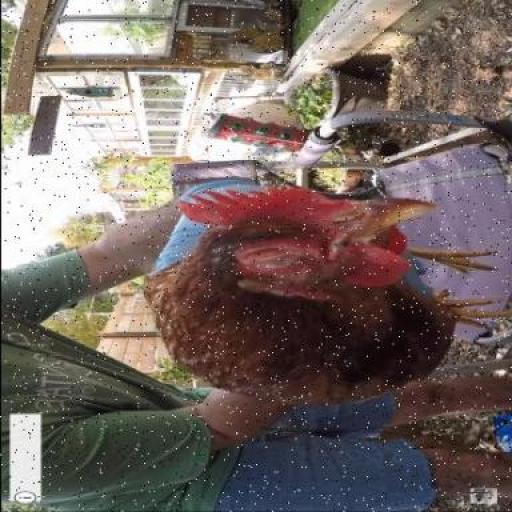disease: (214, 230, 326, 291)
